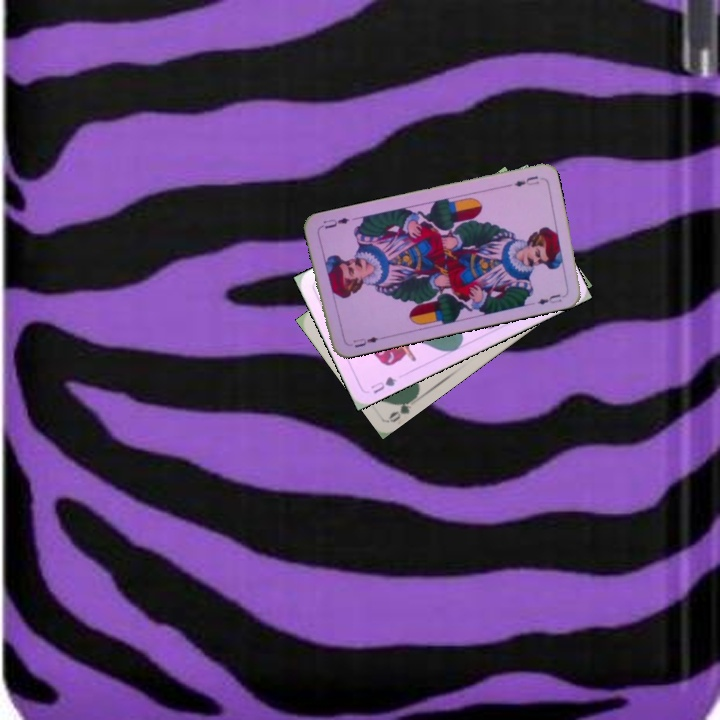EU: (349, 332, 381, 350), (510, 172, 542, 189)
GO: (385, 391, 420, 425)
GU: (367, 373, 399, 396)
